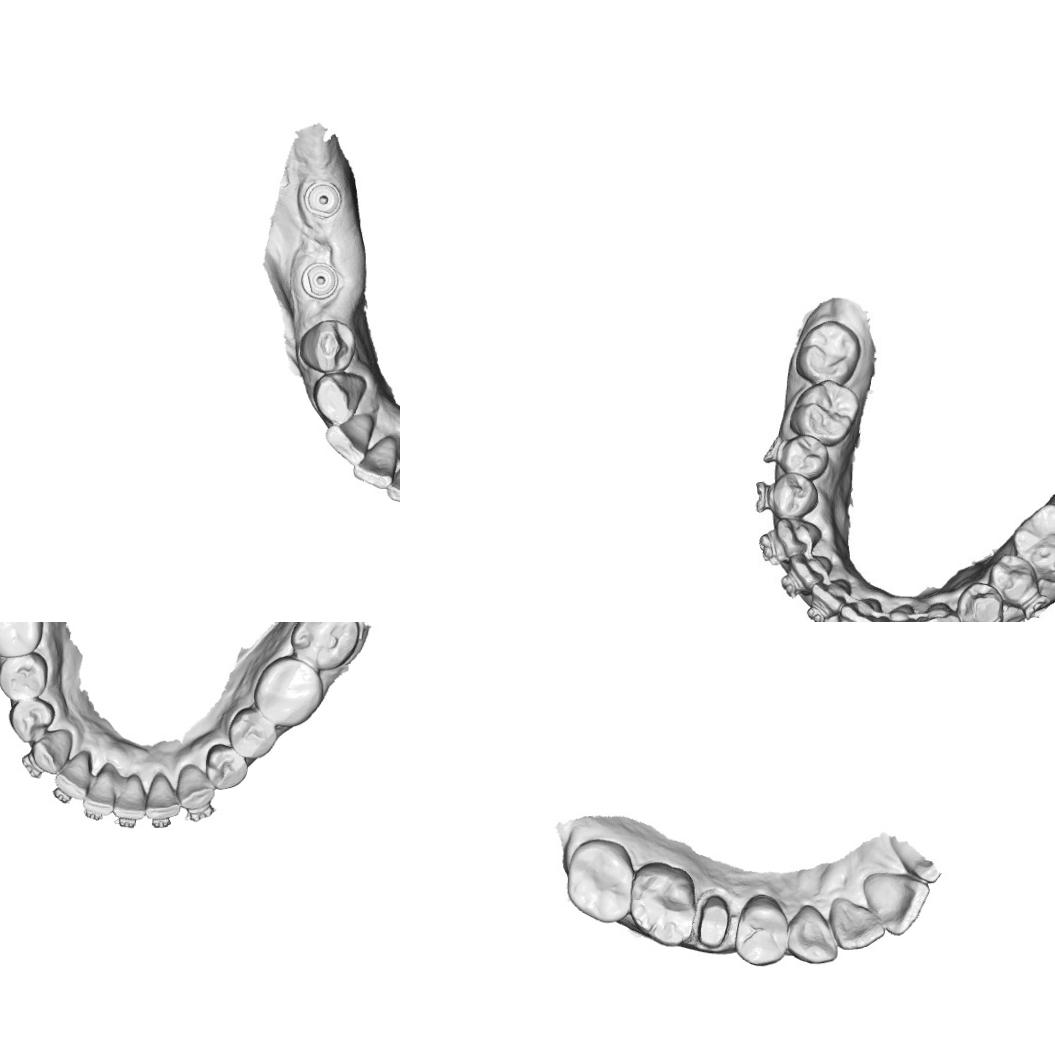canine: (786, 902, 841, 966), (310, 370, 368, 425), (29, 727, 74, 777), (174, 762, 216, 812), (778, 516, 821, 558), (917, 601, 956, 622)
crown: (694, 887, 734, 950)
implant: (297, 259, 340, 301), (302, 180, 342, 220)
incisor: (861, 871, 931, 937), (828, 896, 888, 952), (323, 412, 375, 466), (352, 435, 399, 490), (52, 749, 92, 804), (144, 769, 184, 822), (80, 766, 118, 820), (112, 772, 148, 823), (790, 552, 831, 590), (812, 584, 852, 612), (843, 598, 880, 622), (386, 452, 400, 508), (877, 604, 912, 622)
molar: (564, 838, 638, 925), (627, 859, 698, 949), (250, 654, 327, 729), (288, 622, 362, 672), (800, 322, 858, 385), (796, 378, 858, 434), (1014, 506, 1055, 574), (0, 622, 41, 659)
premolar: (732, 892, 790, 968), (297, 317, 358, 375), (225, 704, 280, 761), (6, 695, 56, 745), (0, 653, 50, 702), (203, 742, 250, 792), (992, 555, 1036, 600), (776, 476, 823, 516), (961, 585, 1008, 622), (781, 440, 826, 475)
